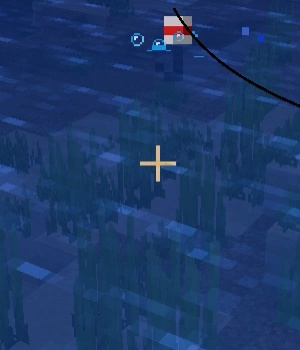up: (157, 11, 199, 85)
